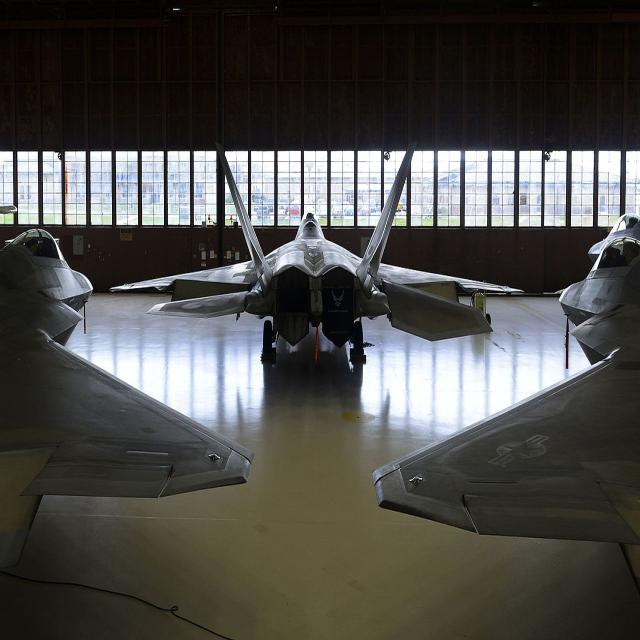MIL_Plane: (109, 137, 527, 362), (371, 238, 640, 547), (1, 227, 256, 499), (587, 213, 640, 266)
